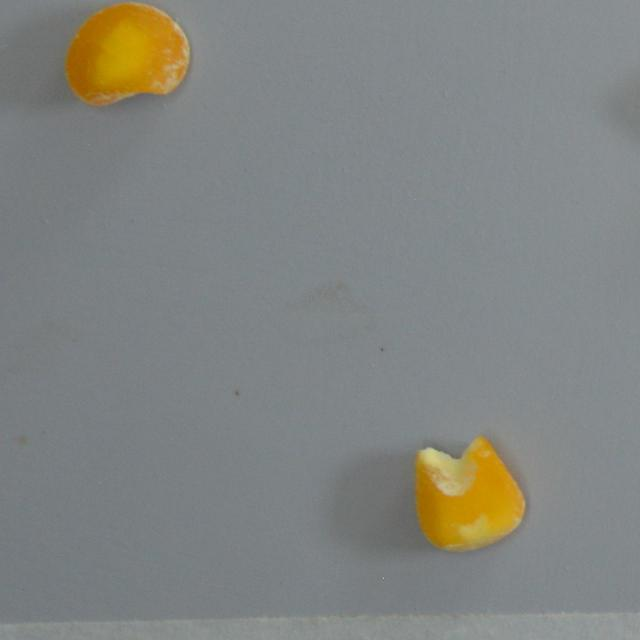pelicula: (63, 0, 190, 108), (411, 436, 526, 554)
